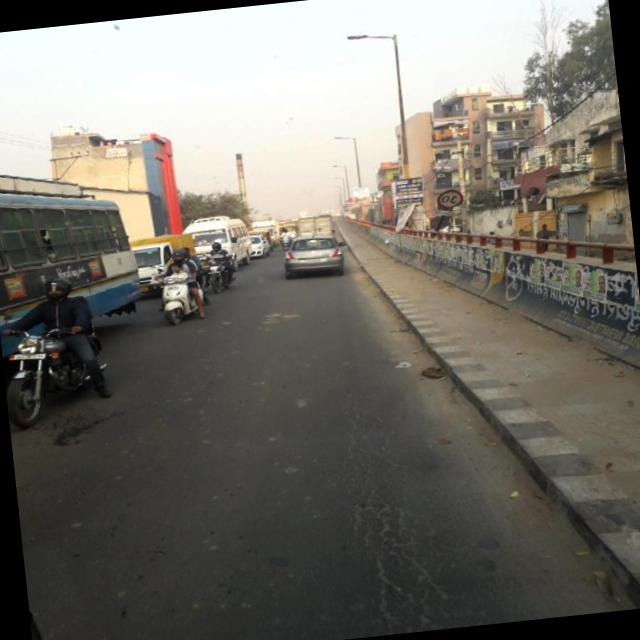crack: (310, 372, 504, 638)
